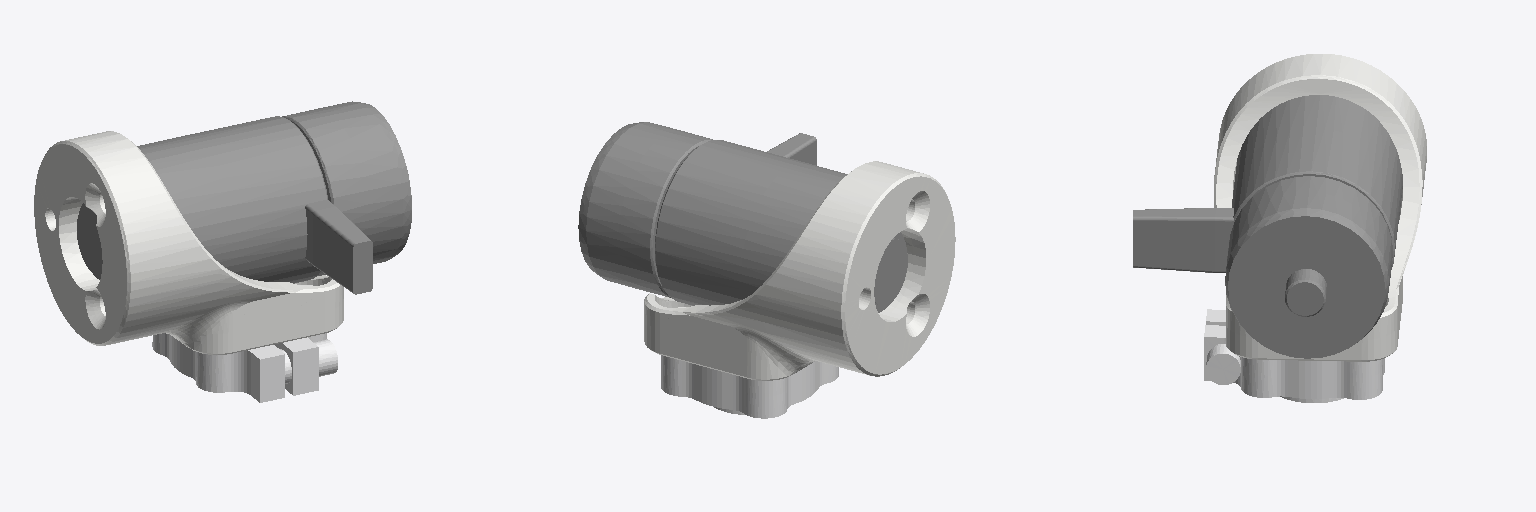
File: motor_right_front.obj
3 renders of one model, left to right at view 1: azimuth 30°, elevation 25°; view 2: azimuth 150°, elevation 25°; view 3: azimuth 270°, elevation 25°, orthographic.
Visible parts, largest first — view 1: Body1.153_Body1.066, Body1.159_Body1.070, Body1.154_Body1.067; view 2: Body1.159_Body1.070, Body1.153_Body1.066, Body1.154_Body1.067; view 3: Body1.153_Body1.066, Body1.159_Body1.070, Body1.154_Body1.067.
Part boxes in pixels (bbox=[...]): Body1.153_Body1.066: bbox=[77, 101, 411, 294]; Body1.159_Body1.070: bbox=[34, 131, 343, 354]; Body1.154_Body1.067: bbox=[152, 333, 337, 402]; Body1.159_Body1.070: bbox=[644, 161, 955, 380]; Body1.153_Body1.066: bbox=[578, 122, 907, 312]; Body1.154_Body1.067: bbox=[661, 355, 838, 418]; Body1.153_Body1.066: bbox=[1133, 95, 1402, 358]; Body1.159_Body1.070: bbox=[1214, 54, 1426, 361]; Body1.154_Body1.067: bbox=[1204, 309, 1384, 402].
Size of the model in its own units: 0.0531 by 0.0412 by 0.0428.